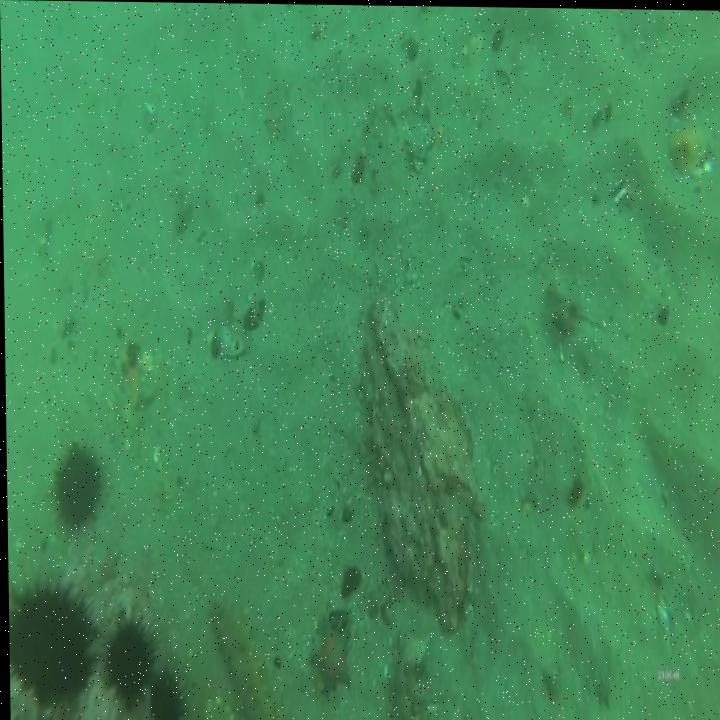echinus: (8, 562, 101, 720), (103, 607, 153, 716), (51, 438, 100, 535), (146, 659, 193, 717)
starfish: (307, 608, 355, 699)
